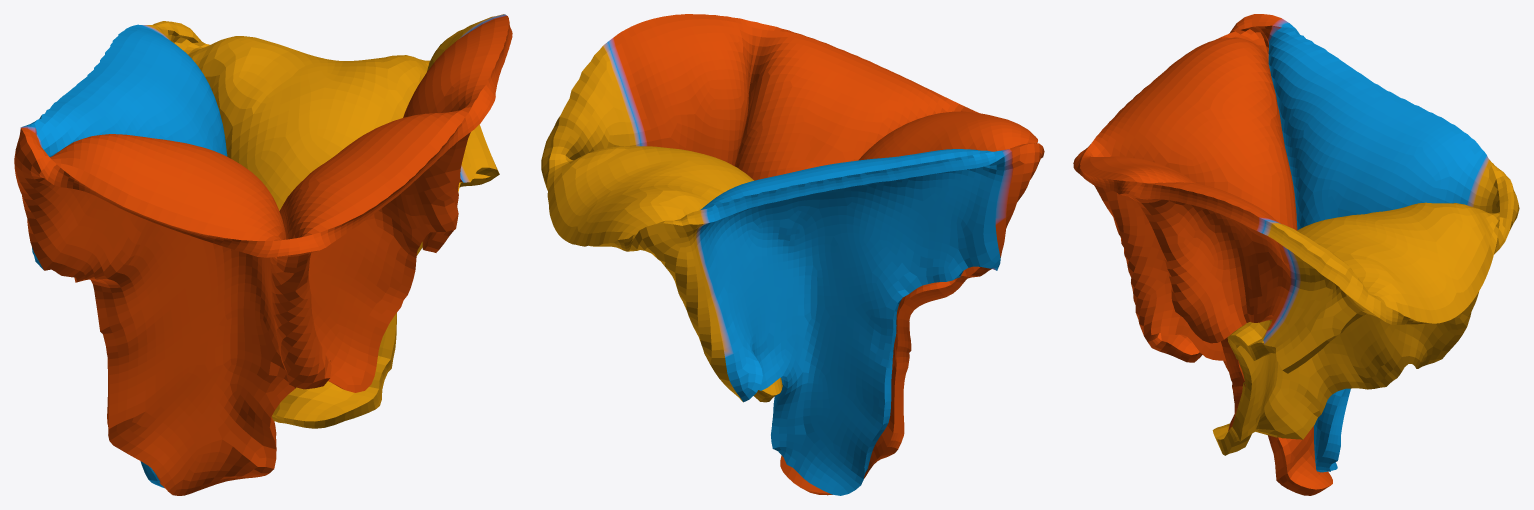
Rendered from OCS14_elset.glb.
3 renders of one model, left to right at view 1: azimuth 30°, elevation 25°; view 2: azimuth 150°, elevation 25°; view 3: azimuth 270°, elevation 25°, orthographic. The views are drawn at different scales.
Visible parts, largest first — view 1: OCS14_1060_elset; view 2: OCS14_1060_elset; view 3: OCS14_1060_elset.
Part boxes in pixels (x1=…): OCS14_1060_elset: x1=14, y1=14, x2=512, y2=495; OCS14_1060_elset: x1=541, y1=14, x2=1044, y2=495; OCS14_1060_elset: x1=1073, y1=14, x2=1519, y2=495.
Size of the model in its own units: 1.36 by 1.13 by 1.16.
